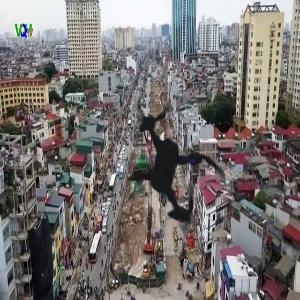drone: (54, 53, 283, 282)
